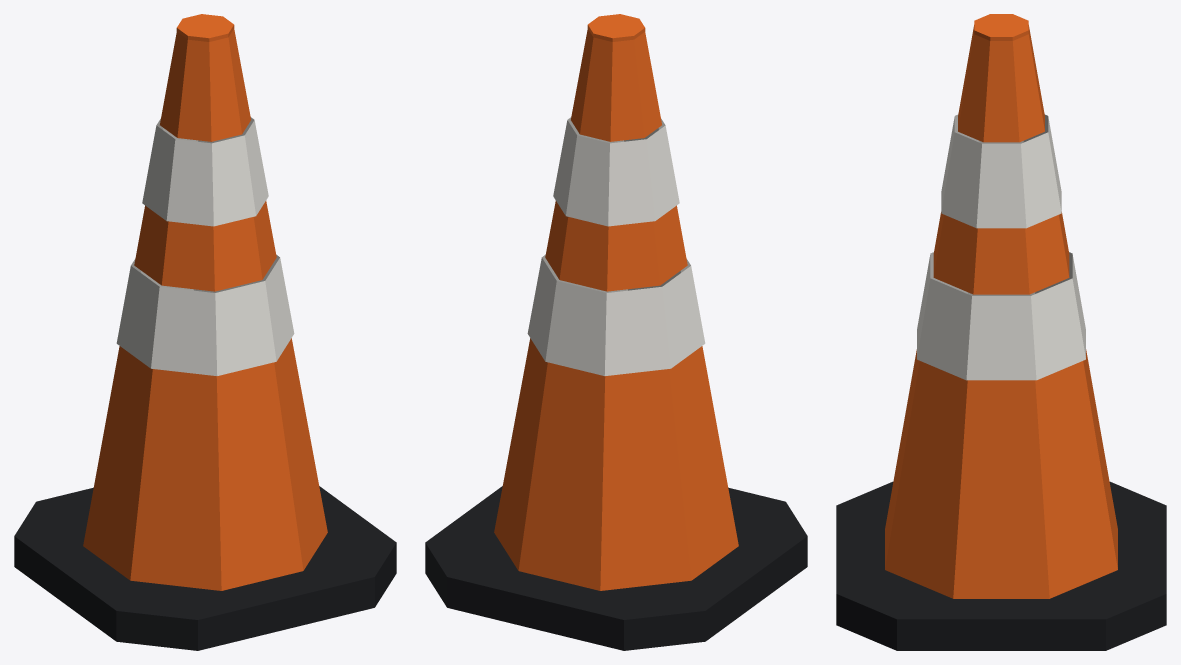
File: road_cone.glb
3 views of the same model, side by side, from view 1: azimuth 30°, elevation 25°; view 2: azimuth 150°, elevation 25°; view 3: azimuth 270°, elevation 25° (orthographic). The views are drawn at different scales.
Parts seen in each view (by area): view 1: Body; view 2: Body; view 3: Body.
Boxes of the visible parts, x1=… form: Body: x1=14, y1=14, x2=396, y2=650; Body: x1=425, y1=14, x2=807, y2=650; Body: x1=836, y1=14, x2=1166, y2=650.
Size of the model in its own units: 0.38 by 0.705 by 0.38.
